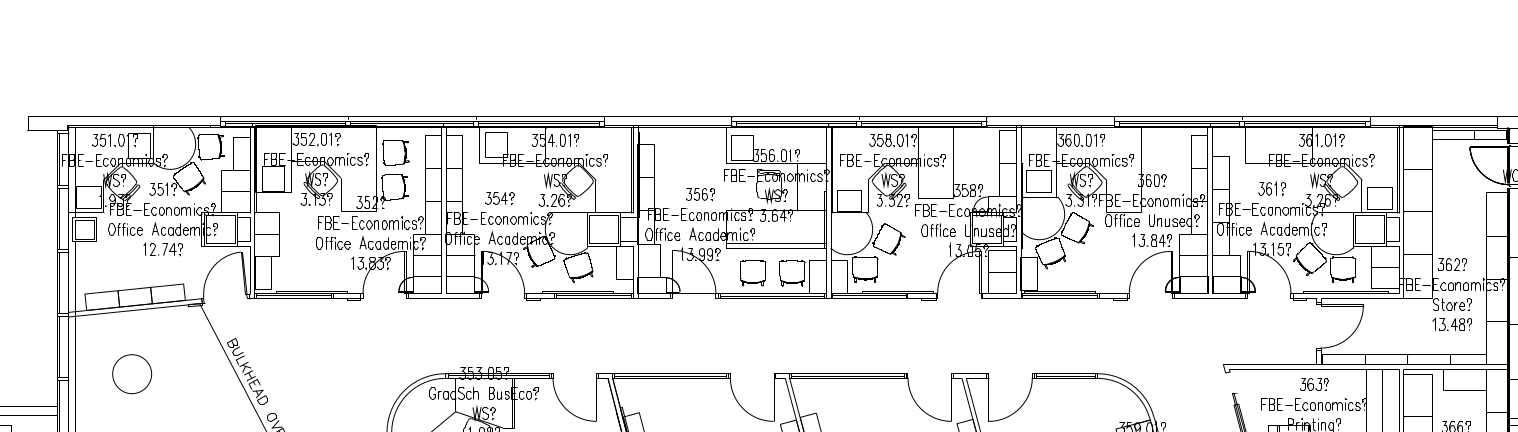door: (199, 250, 246, 304), (360, 245, 407, 299), (477, 244, 524, 298), (551, 373, 598, 427), (731, 376, 778, 430), (907, 371, 954, 425), (933, 247, 980, 301), (983, 376, 1030, 430), (669, 242, 716, 296), (1127, 248, 1174, 302), (1244, 240, 1291, 294), (1318, 300, 1366, 351), (1463, 141, 1511, 192)
